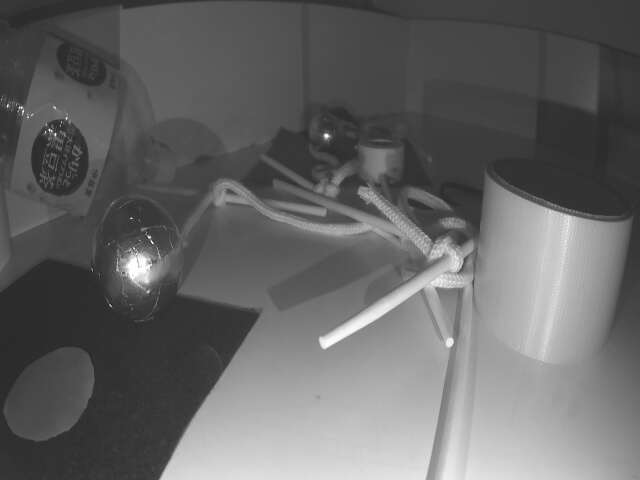Live: (91, 198, 187, 324), (310, 109, 342, 154)
